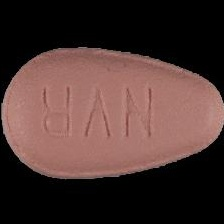21695-917: (0, 0, 224, 224)
